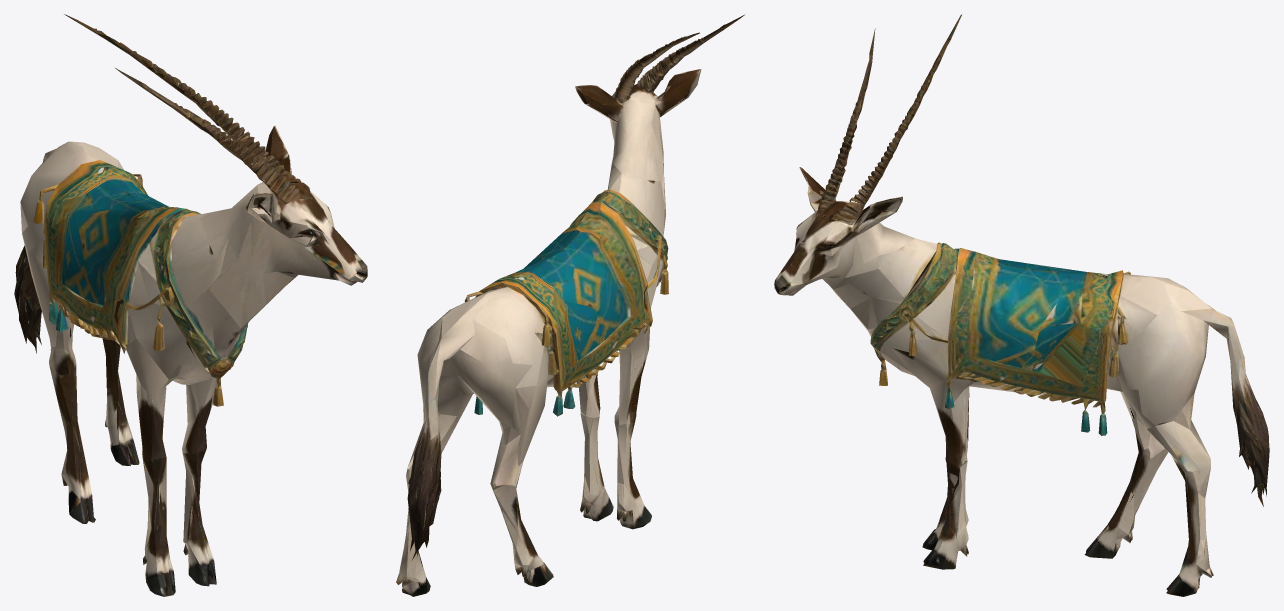
The model's file is oryx.glb.
The picture shows the model from 3 angles, left to right: view 1: azimuth 30°, elevation 25°; view 2: azimuth 150°, elevation 25°; view 3: azimuth 270°, elevation 25°; orthographic projection. The views are drawn at different scales.
Size of the model in its own units: 0.6857 by 1.9 by 1.7.
Materials: 1 (1 with a texture image).
